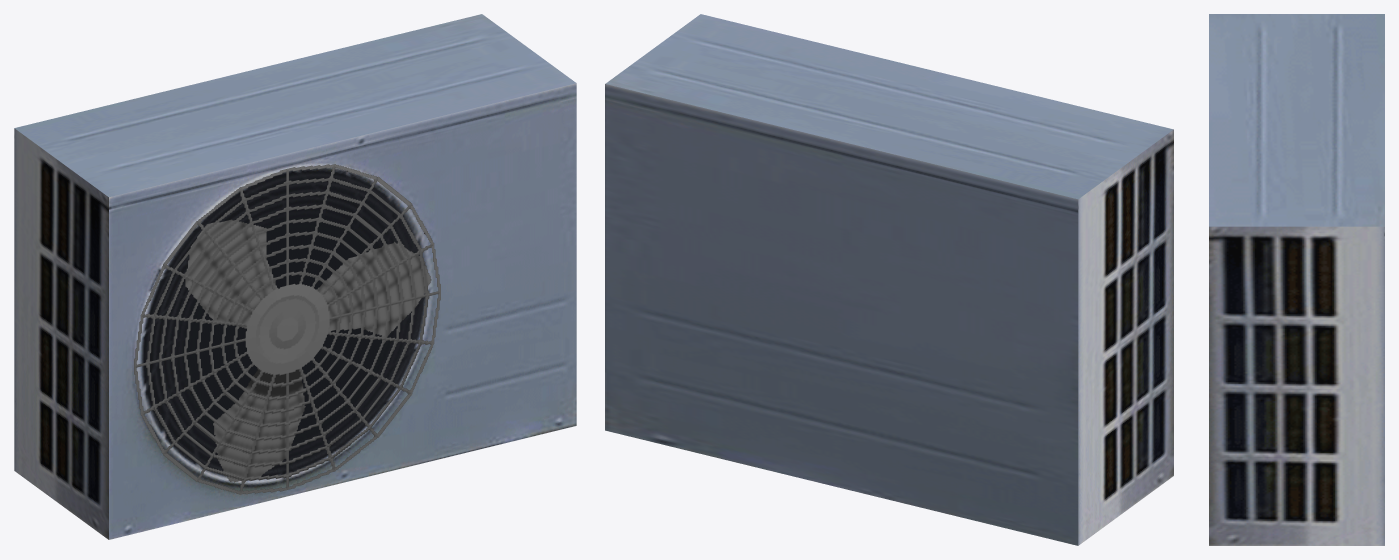
File: AC_Unit.fbx
3 renders of one model, left to right at view 1: azimuth 30°, elevation 25°; view 2: azimuth 150°, elevation 25°; view 3: azimuth 270°, elevation 25°, orthographic. The views are drawn at different scales.
Visible parts, largest first — view 1: AC_Unit, Plane; view 2: AC_Unit; view 3: AC_Unit.
Boxes of the visible parts, bbox=[...] form: AC_Unit: bbox=[14, 14, 576, 539]; Plane: bbox=[134, 164, 440, 494]; AC_Unit: bbox=[605, 14, 1173, 545]; AC_Unit: bbox=[1209, 14, 1384, 545].
Size of the model in its own units: 2 by 0.7273 by 1.44.
2 materials, 2 textured.
